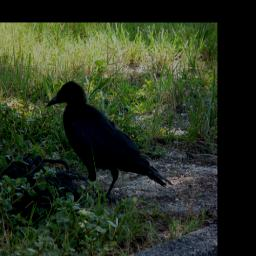Crow: (47, 80, 173, 204)
